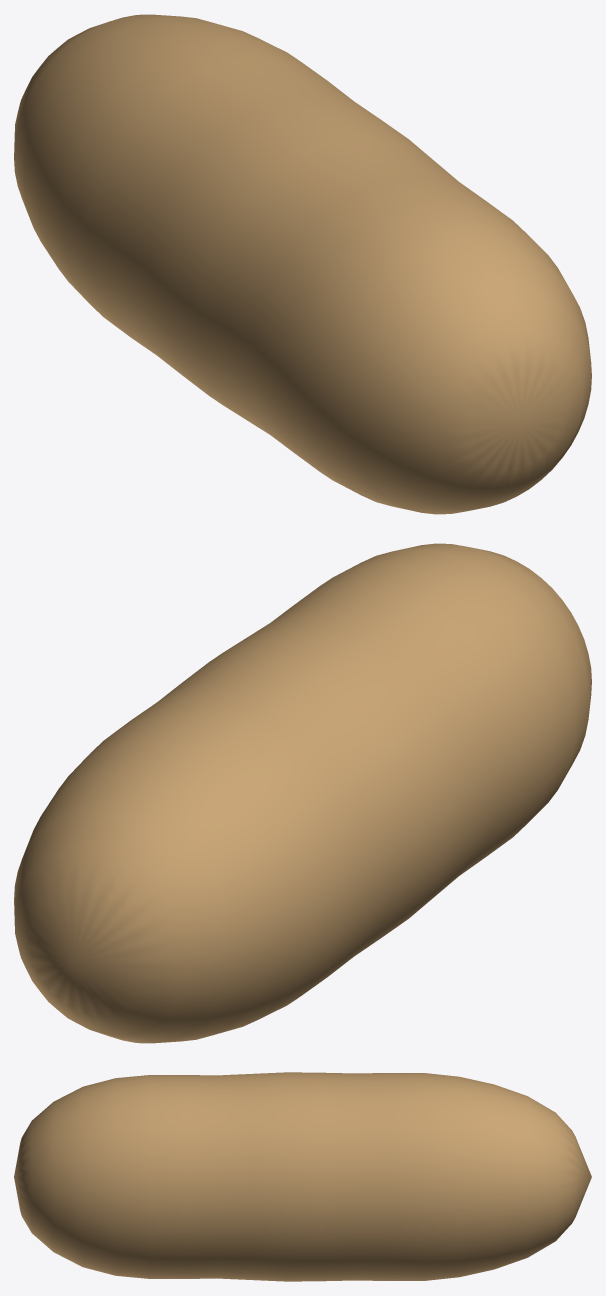
Rendered from pupa.glb.
3 views of the same model, one above another, from view 1: azimuth 30°, elevation 25°; view 2: azimuth 150°, elevation 25°; view 3: azimuth 270°, elevation 25° (orthographic). The views are drawn at different scales.
Visible parts, largest first — view 1: pupa; view 2: pupa; view 3: pupa.
Part boxes in pixels (x1,y1,x2,y2): pupa: [14, 14, 591, 514]; pupa: [14, 543, 591, 1043]; pupa: [14, 1072, 591, 1281].
Bounding box in the file's own units: 0.9128 × 0.9128 × 2.52.
